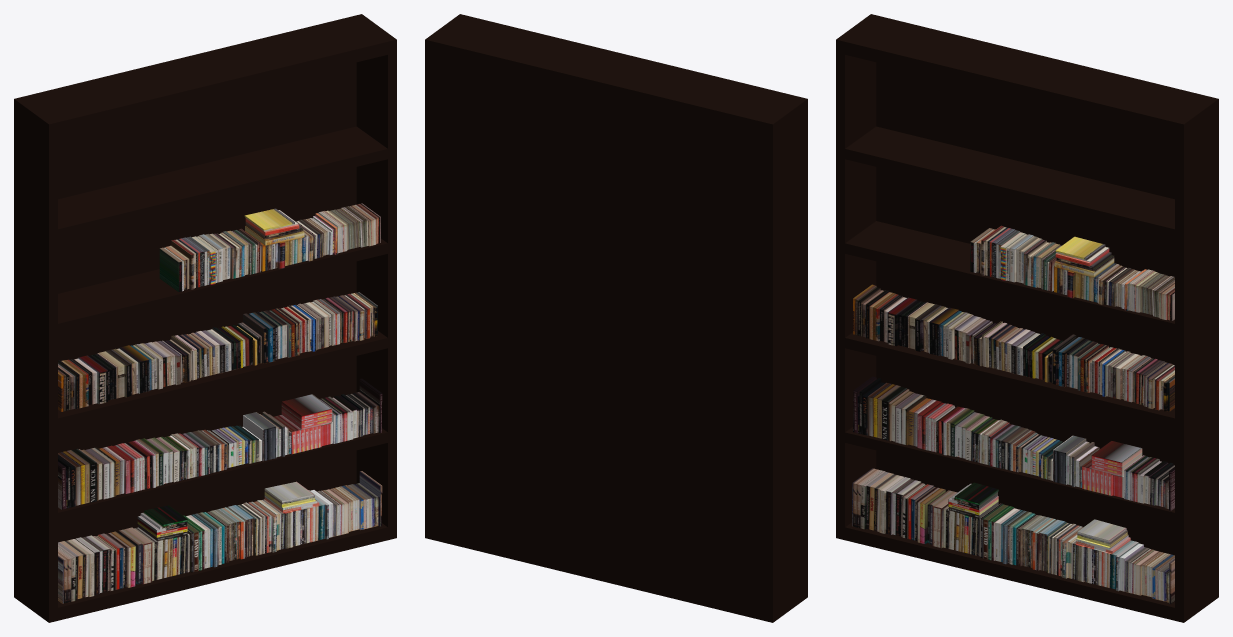
File: bookshelf_try.obj
The picture shows the model from 3 angles, left to right: view 1: azimuth 30°, elevation 25°; view 2: azimuth 150°, elevation 25°; view 3: azimuth 330°, elevation 25°; orthographic projection.
Parts seen in each view (by area): view 1: Cube.001, books; view 2: Cube.001; view 3: Cube.001, books.
Boxes of the visible parts, box(x1,y1,x2,y2) form: Cube.001: box(14, 14, 396, 622); books: box(58, 203, 382, 603); Cube.001: box(425, 14, 807, 622); Cube.001: box(836, 14, 1218, 622); books: box(852, 225, 1174, 603).
Bounding box in the file's own units: 5.11 × 7 × 0.8918.
2 materials, 1 textured.
